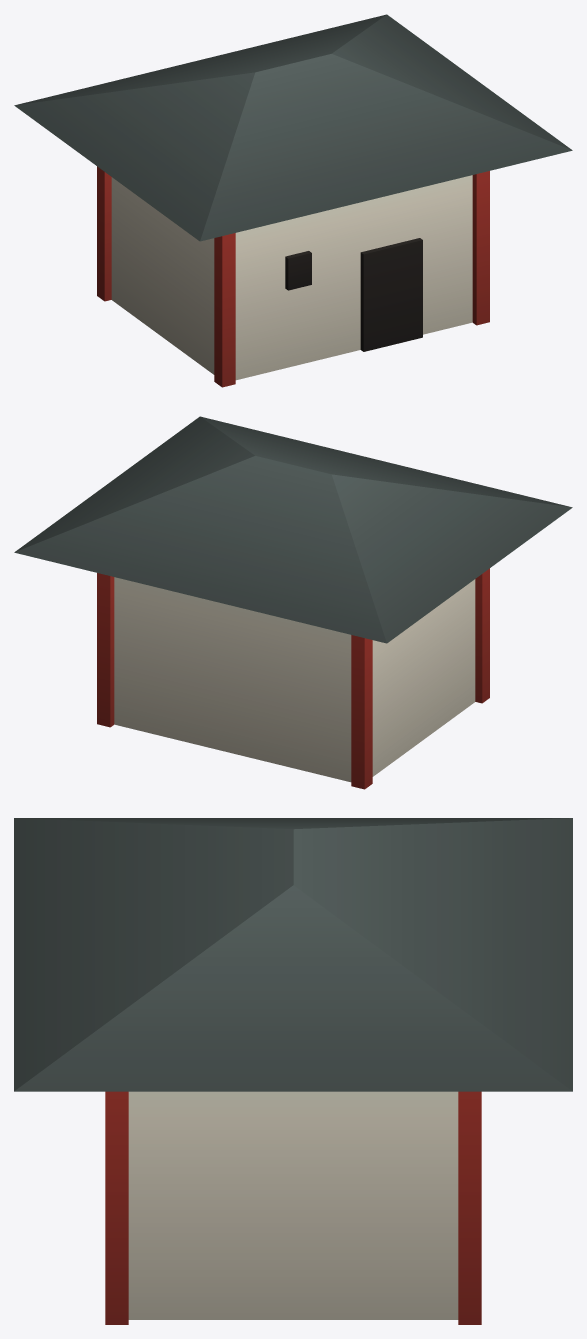
File: house_EA_3b.glb
3 renders of one model, top to bottom at view 1: azimuth 30°, elevation 25°; view 2: azimuth 150°, elevation 25°; view 3: azimuth 270°, elevation 25°, orthographic. The views are drawn at different scales.
Visible parts, largest first — view 1: Body; view 2: Body; view 3: Body.
Boxes of the visible parts, box(x1,y1,x2,y2) form: Body: box(14, 14, 572, 387); Body: box(14, 416, 572, 789); Body: box(14, 818, 572, 1324).
Size of the model in its own units: 2.2 by 1.39 by 1.9.
Materials: 1 (1 with a texture image).
